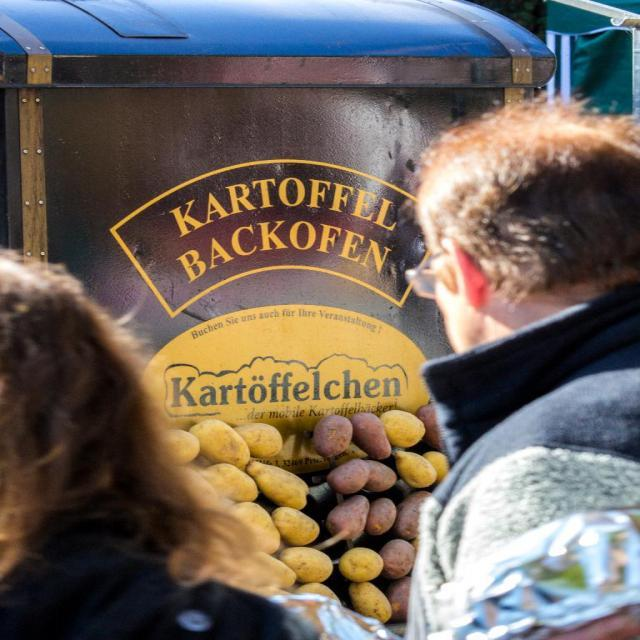Potato: (154, 414, 340, 602), (311, 403, 451, 625)
